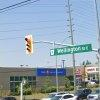traffic lights: (24, 35, 33, 55)
